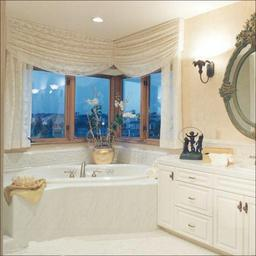Ventana: (12, 55, 113, 140), (113, 55, 169, 145)
